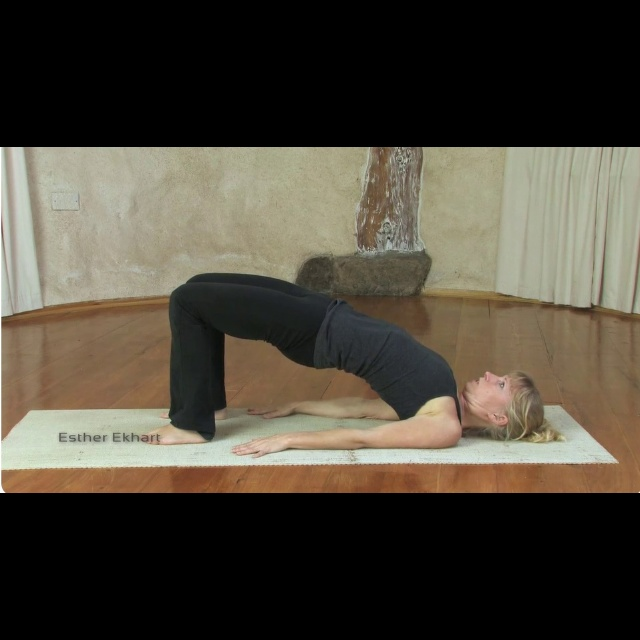Bridge_Pose: (143, 270, 564, 458)
